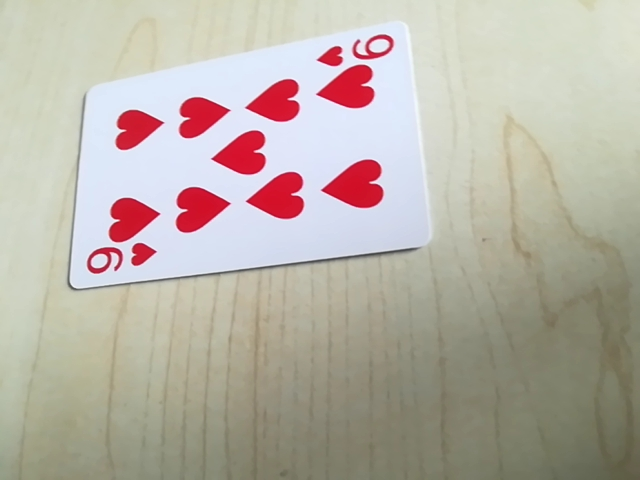hx 9: (315, 29, 402, 69), (82, 240, 161, 282)
